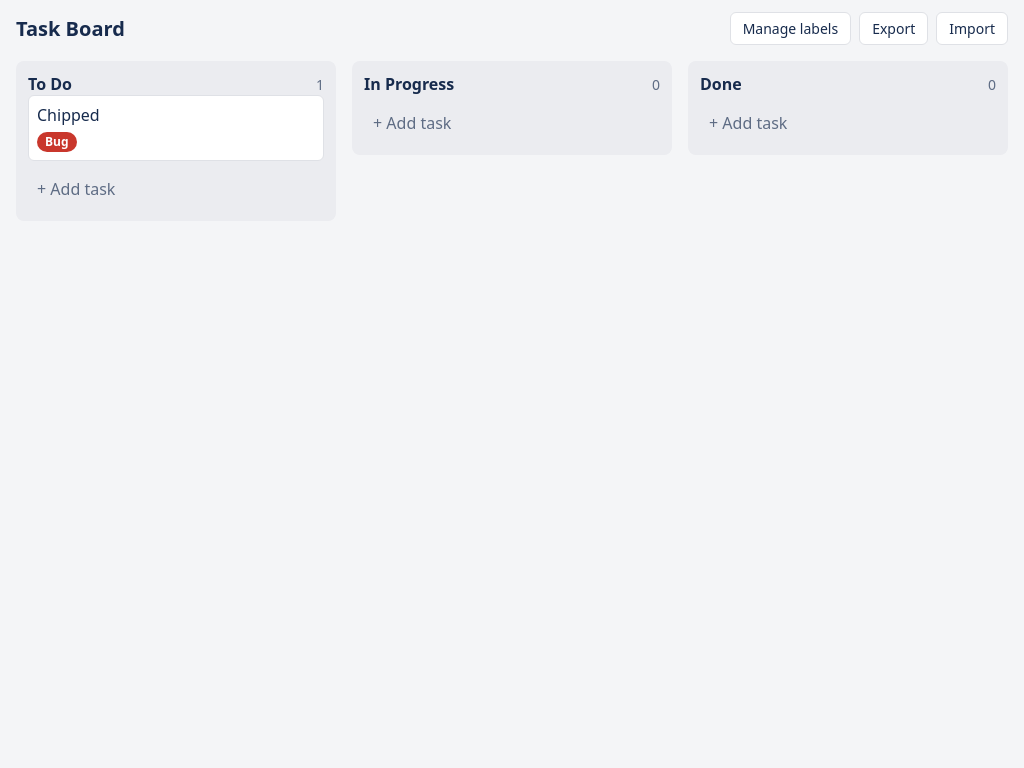
Test: Keyboard use of the modal › after removing a Label chip › still closes on Escape
Click the heading "Chipped": (68, 115) [37,104,100,126]
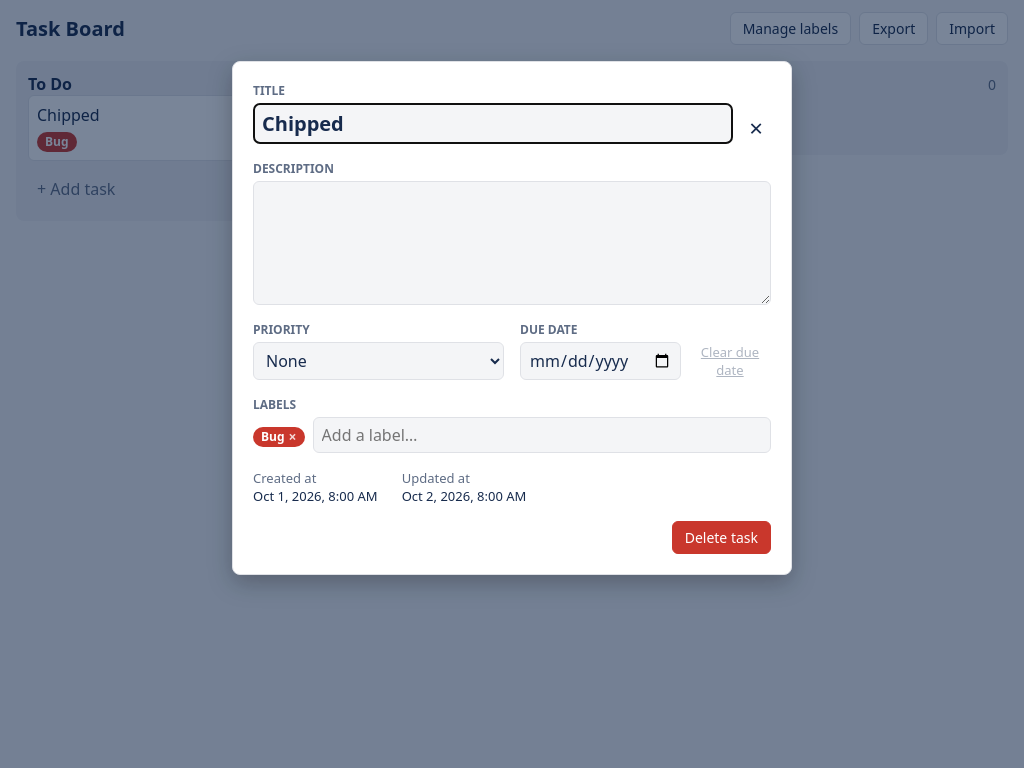
Click the button named "remove label bug": (292, 437) [286,430,296,444]
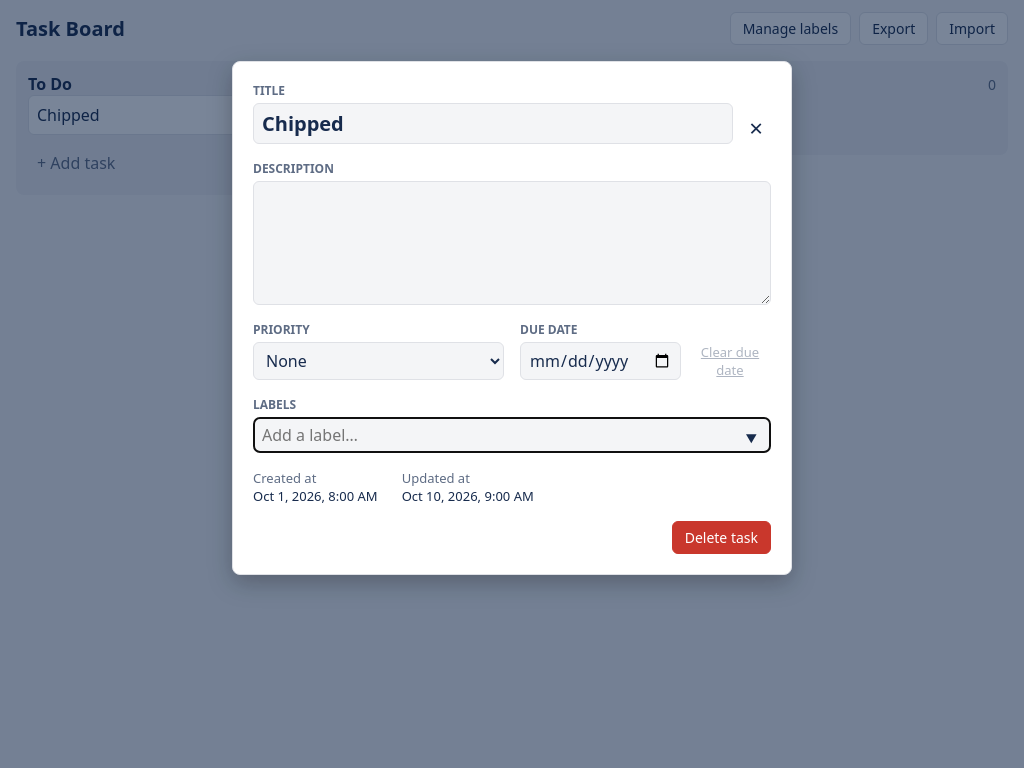
Press Escape
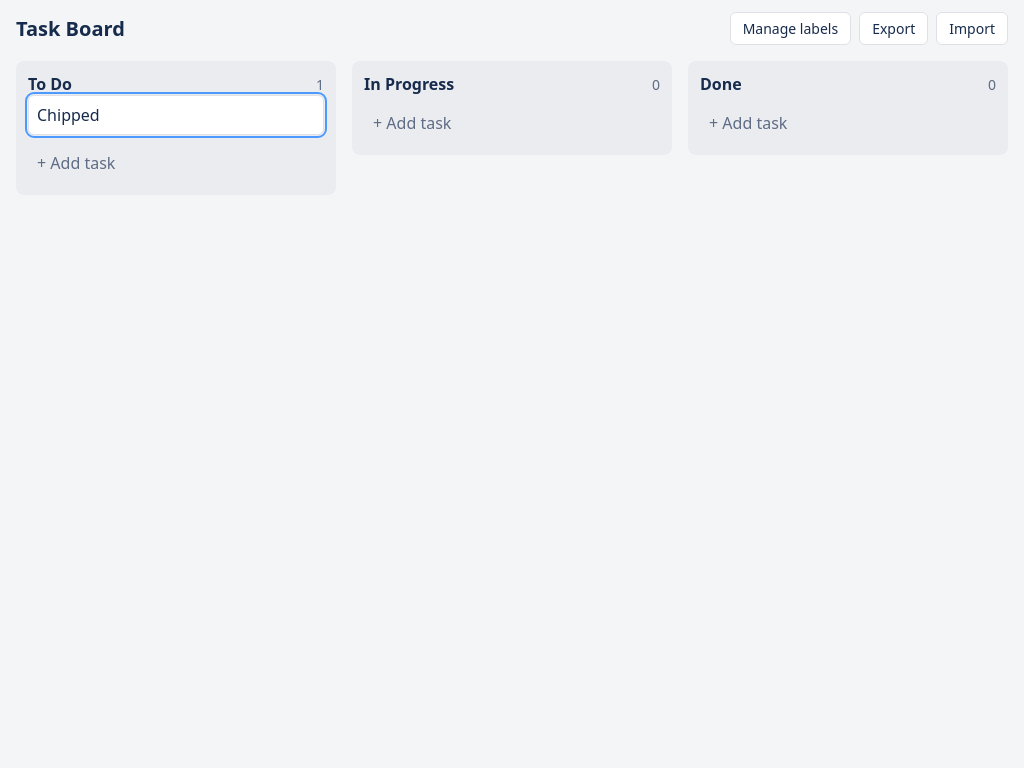
Expected: the dialog is gone
